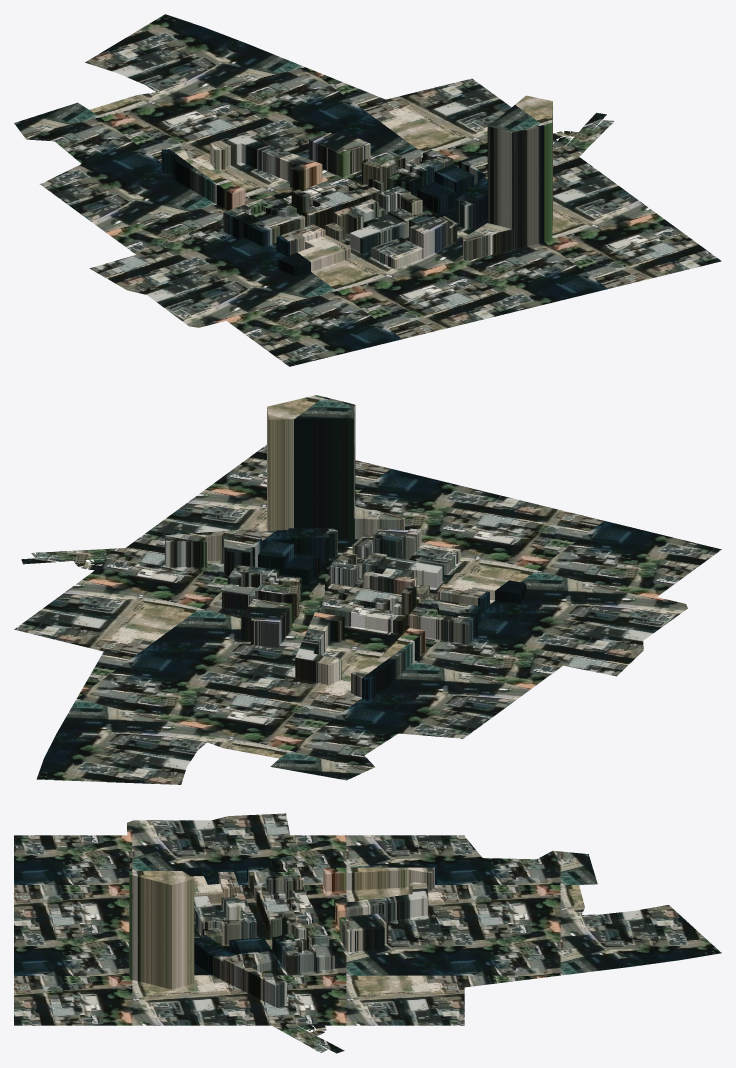
File: shoreditch_z19.glb
The picture shows the model from 3 angles, top to bottom: view 1: azimuth 30°, elevation 25°; view 2: azimuth 150°, elevation 25°; view 3: azimuth 270°, elevation 25°; orthographic projection. The views are drawn at different scales.
Visible parts, largest first — view 1: Buildings, Ground_Plane, Roads; view 2: Buildings, Ground_Plane, Roads; view 3: Buildings, Ground_Plane, Roads.
Part boxes in pixels (x1=…): Buildings: x1=14, y1=14, x2=618, y2=327; Ground_Plane: x1=40, y1=78, x2=721, y2=366; Roads: x1=114, y1=98, x2=614, y2=301; Buildings: x1=36, y1=395, x2=687, y2=784; Ground_Plane: x1=14, y1=444, x2=721, y2=738; Roads: x1=21, y1=538, x2=570, y2=711; Buildings: x1=127, y1=813, x2=721, y2=1025; Ground_Plane: x1=14, y1=835, x2=464, y2=1025; Roads: x1=102, y1=844, x2=508, y2=1053.
Size of the model in its own units: 379 by 76.85 by 471.
Materials: 1 (1 with a texture image).
